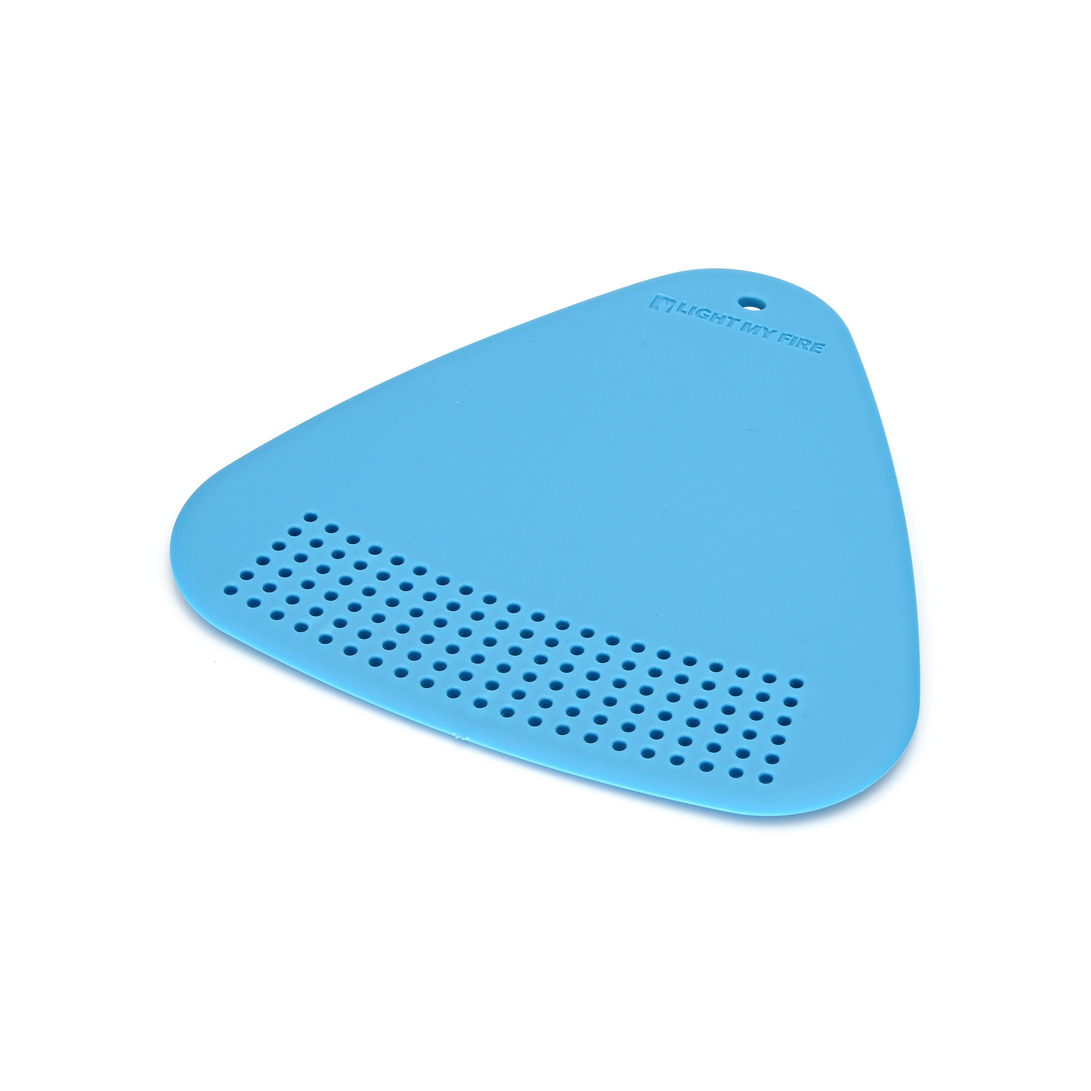gloved_hand: (155, 244, 954, 832)
